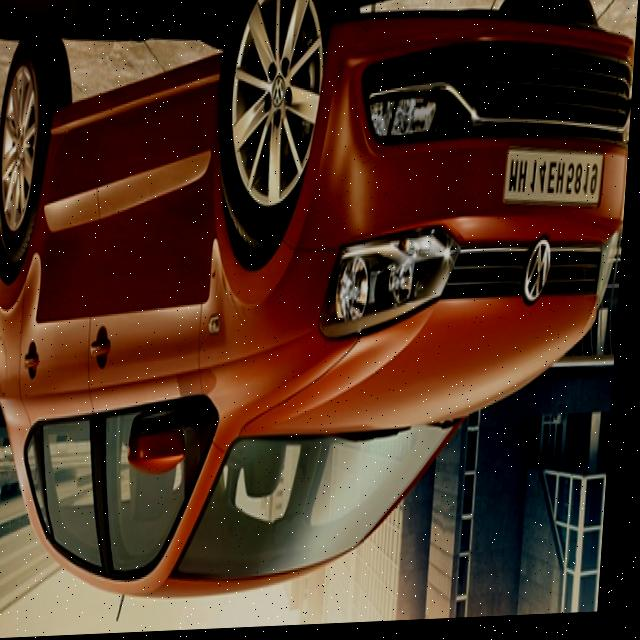plate: (508, 150, 607, 215)
